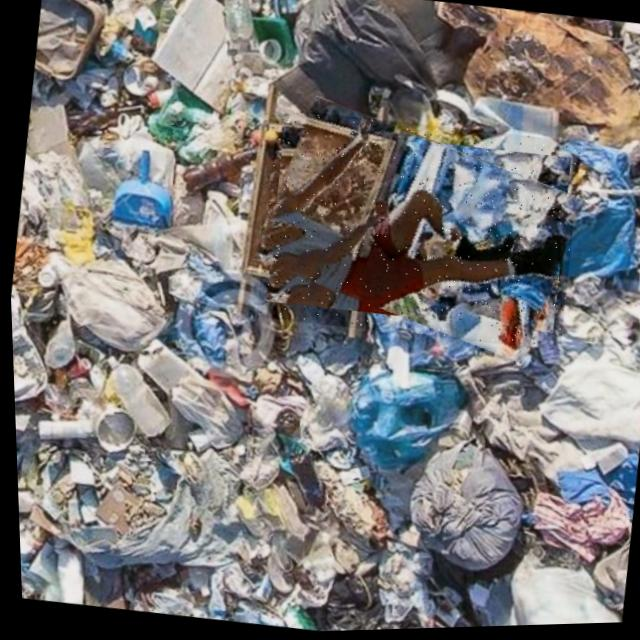Person in Rubble: (248, 102, 587, 360)
